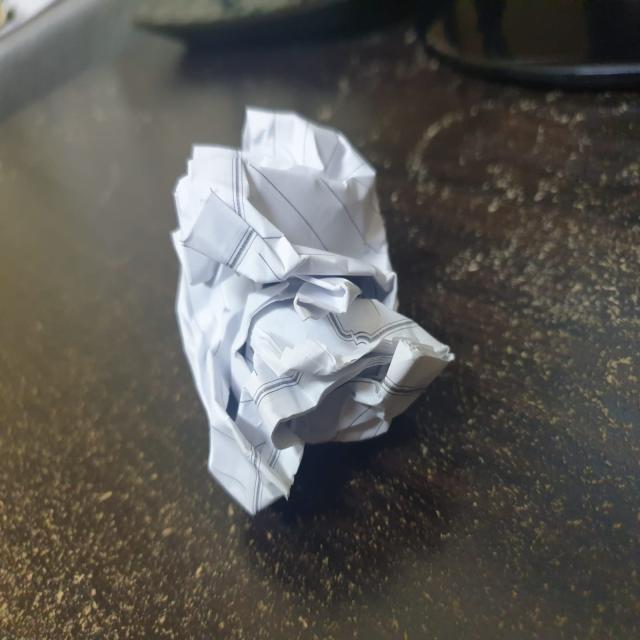Paper: (171, 107, 457, 512)
